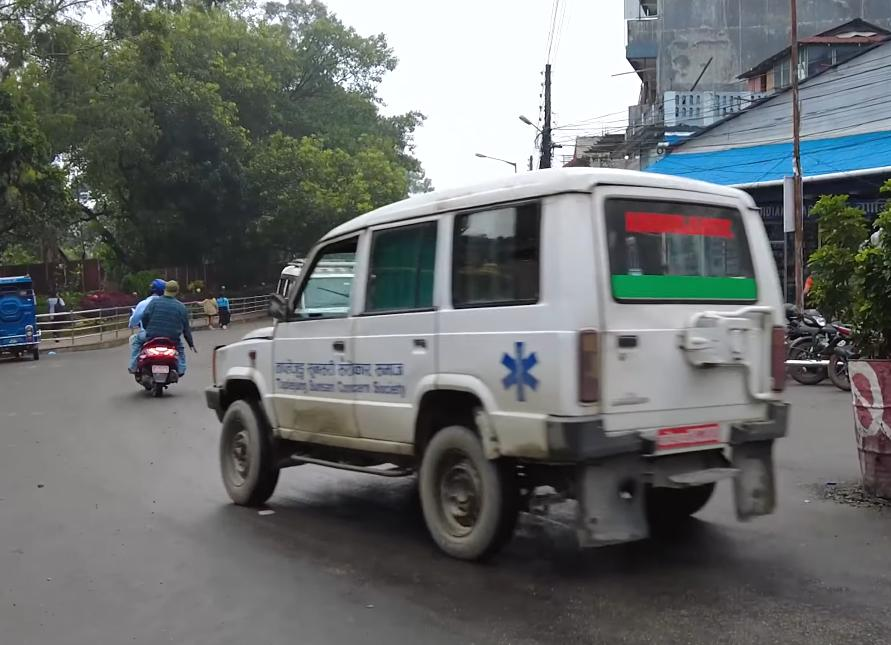ambulance: (205, 163, 798, 591)
e-rickshaw: (0, 271, 48, 367)
